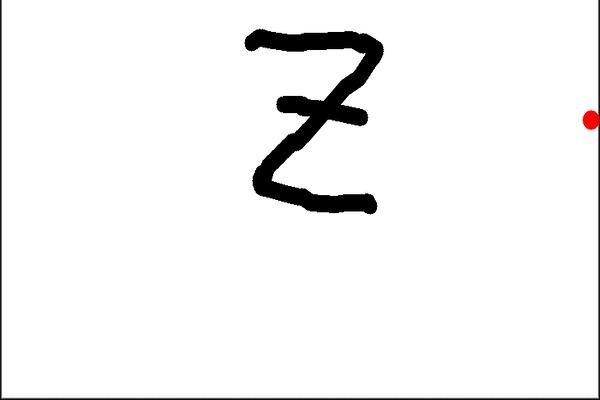Z: (238, 22, 396, 222)
